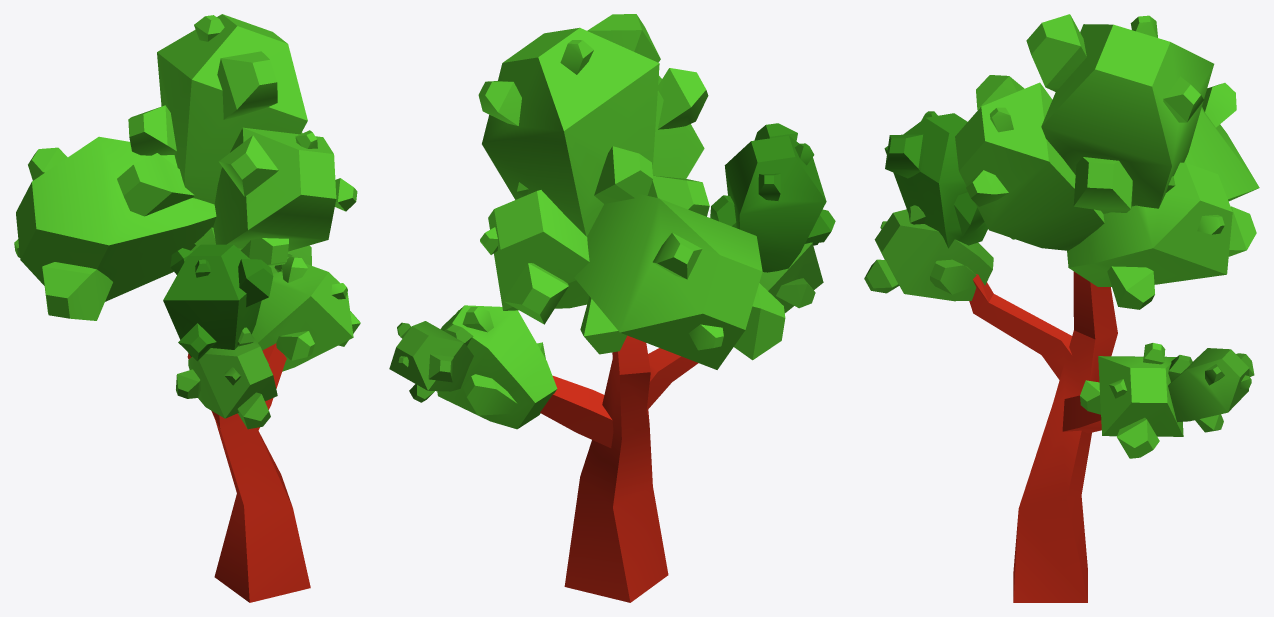
The model's file is Tree.dae.
3 views of the same model, side by side, from view 1: azimuth 30°, elevation 25°; view 2: azimuth 150°, elevation 25°; view 3: azimuth 270°, elevation 25° (orthographic). The views are drawn at different scales.
Parts seen in each view (by area): view 1: BranchesCBranchesuBranchesbBrancheseBranches-Branches0Branc- (×3), Trunk, BranchesCBranchesuBranchesbBrancheseBranches-Branches0Branch, BranchesCBranchesuBranchesbBrancheseBranches-Branches0BrancB, BranchesCBranchesuBranchesbBrancheseBranchesBranch; view 2: BranchesCBranchesuBranchesbBrancheseBranches-Branches0Branc- (×5), Trunk, BranchesCBranchesuBranchesbBrancheseBranches-Branches0Branch, BranchesCBranchesuBranchesbBrancheseBranches-Branches0BrancB, BranchesCBranchesuBranchesbBrancheseBranchesBranch; view 3: BranchesCBranchesuBranchesbBrancheseBranches-Branches0Branc- (×5), Trunk, BranchesCBranchesuBranchesbBrancheseBranches-Branches0Branch, BranchesCBranchesuBranchesbBrancheseBranchesBranch, BranchesCBranchesuBranchesbBrancheseBranches-Branches0BrancB.
Part boxes in pixels (x1,y1,x2,y2): BranchesCBranchesuBranchesbBrancheseBranches-Branches0Branc- (×3): (14,14,357,320); Trunk: (187,343,310,602); BranchesCBranchesuBranchesbBrancheseBranches-Branches0Branch: (163,244,273,361); BranchesCBranchesuBranchesbBrancheseBranches-Branches0BrancB: (251,256,360,371); BranchesCBranchesuBranchesbBrancheseBranchesBranch: (176,327,277,429); BranchesCBranchesuBranchesbBrancheseBranches-Branches0Branc- (×5): (389,14,785,402); Trunk: (540,335,698,602); BranchesCBranchesuBranchesbBrancheseBranches-Branches0Branch: (710,123,835,272); BranchesCBranchesuBranchesbBrancheseBranches-Branches0BrancB: (437,305,557,429); BranchesCBranchesuBranchesbBrancheseBranchesBranch: (759,242,823,313); BranchesCBranchesuBranchesbBrancheseBranches-Branches0Branc- (×5): (955,14,1259,432); Trunk: (969,271,1117,602); BranchesCBranchesuBranchesbBrancheseBranches-Branches0Branch: (884,111,987,248); BranchesCBranchesuBranchesbBrancheseBranchesBranch: (864,205,993,301); BranchesCBranchesuBranchesbBrancheseBranches-Branches0BrancB: (1080,343,1183,458).
Size of the model in its own units: 10.59 by 16.73 by 10.6.
